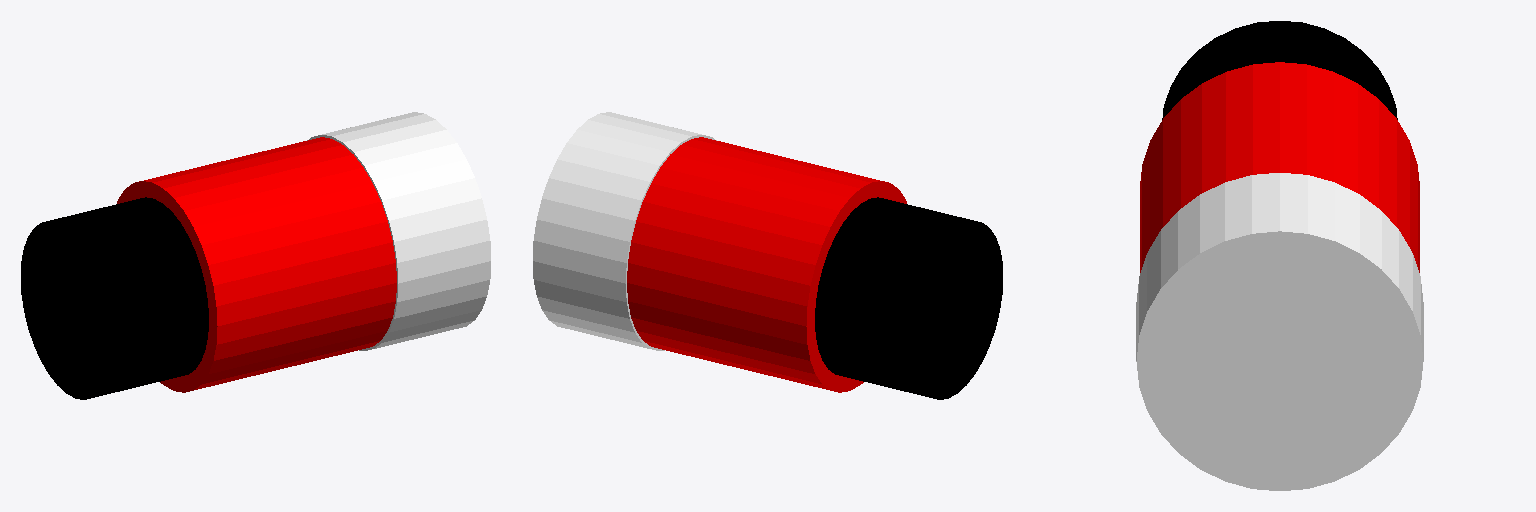
URDF robot description (small_plug):
<robot
  name="small_plug">
  <link name="base_link">
    <inertial>
      <origin xyz="0 0 0"
        rpy="0 0 0" />
      <mass value="0.082" />
      <inertia
        ixx="0.00001"
        ixy="0"
        ixz="0"
        iyy="0.00017"
        iyz="0"
        izz="0.00017" />
    </inertial>
    <visual>
      <origin xyz=".027265 0 0"
        rpy="0 1.57079633 0" />
      <geometry>
        <cylinder length="0.0185" radius=".019075" />
      </geometry>
      <material name="">
        <color rgba="1 1 1 1" />
      </material>
    </visual>
<collision>   
 <origin xyz=".027265 0 0"
        rpy="0 1.57079633 0" />
      <geometry>
        <cylinder length="0.0185" radius=".019075" />
      </geometry>
      <material name="">
        <color rgba="0 0 0 0" />
      </material>
</collision> 
<visual>
      <origin xyz="0.000375 0 0"
        rpy="0 1.57079633 0" />
      <geometry>
        <cylinder length="0.036" radius=".01865" />
      </geometry>
      <material name="">
        <color rgba="1 0 0 1" />
      </material>
    </visual> 
<collision>   
  <origin xyz="0.000375 0 0"
        rpy="0 1.57079633 0" />
      <geometry>
        <cylinder length="0.036" radius=".01865" />
      </geometry>
      <material name="">
        <color rgba="1 0 0 1" />
      </material>
</collision> 
<visual>
      <origin xyz="-.027250 0 0"
        rpy="0 1.57079633 0" />
      <geometry>
        <cylinder length="0.01925" radius=".015765" />
      </geometry>
      <material name="">
        <color rgba="0 0 0 0" />
      </material>
    </visual> 
<collision>   
  <origin xyz="-.027250 0 0"
        rpy="0 1.57079633 0" />
      <geometry>
        <cylinder length="0.01925" radius=".015765" />
      </geometry>
      <material name="">
        <color rgba="0 0 0 0" />
      </material>
</collision> 
  </link>
 
</robot>

--- Facts derived from the render (not from the file) ---
The picture shows the robot from 3 angles, left to right: view 1: azimuth 30°, elevation 25°; view 2: azimuth 150°, elevation 25°; view 3: azimuth 270°, elevation 25°; orthographic projection.
Robot: small_plug — 1 links, 0 joints (none); root link base_link; default pose: every joint at zero.
Visible links, largest first — view 1: base_link; view 2: base_link; view 3: base_link.
Link boxes in pixels (<box>): base_link: <box>21,112,490,399</box>; base_link: <box>533,112,1002,399</box>; base_link: <box>1136,21,1423,490</box>.
Size in the robot's own frame: 0.0734 by 0.0382 by 0.0382 metres.
Geometry: primitives only (box / cylinder / sphere), no mesh files.